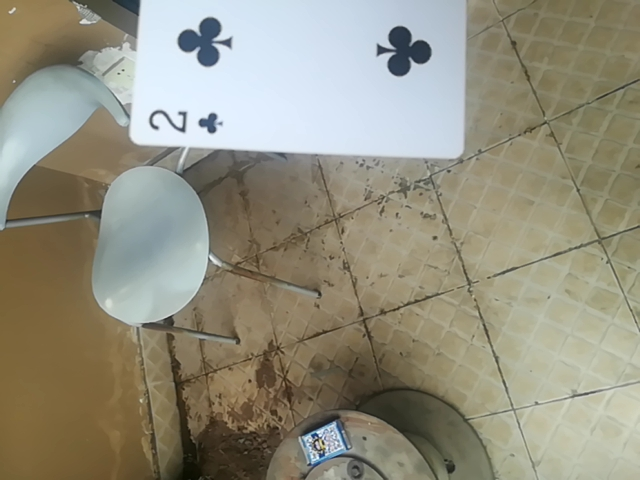mh 2: (122, 2, 462, 161)
